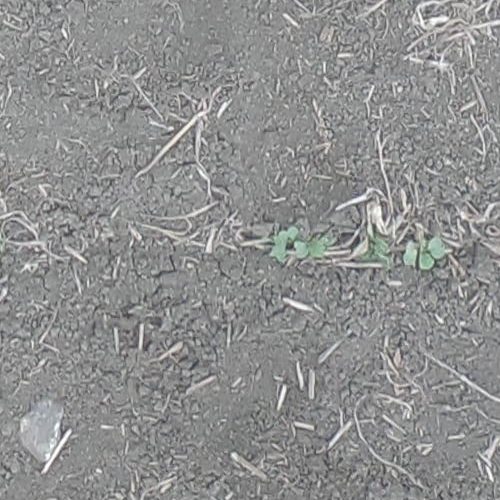plant: (269, 226, 328, 264), (405, 239, 445, 268), (370, 237, 390, 266), (0, 230, 1, 265)
